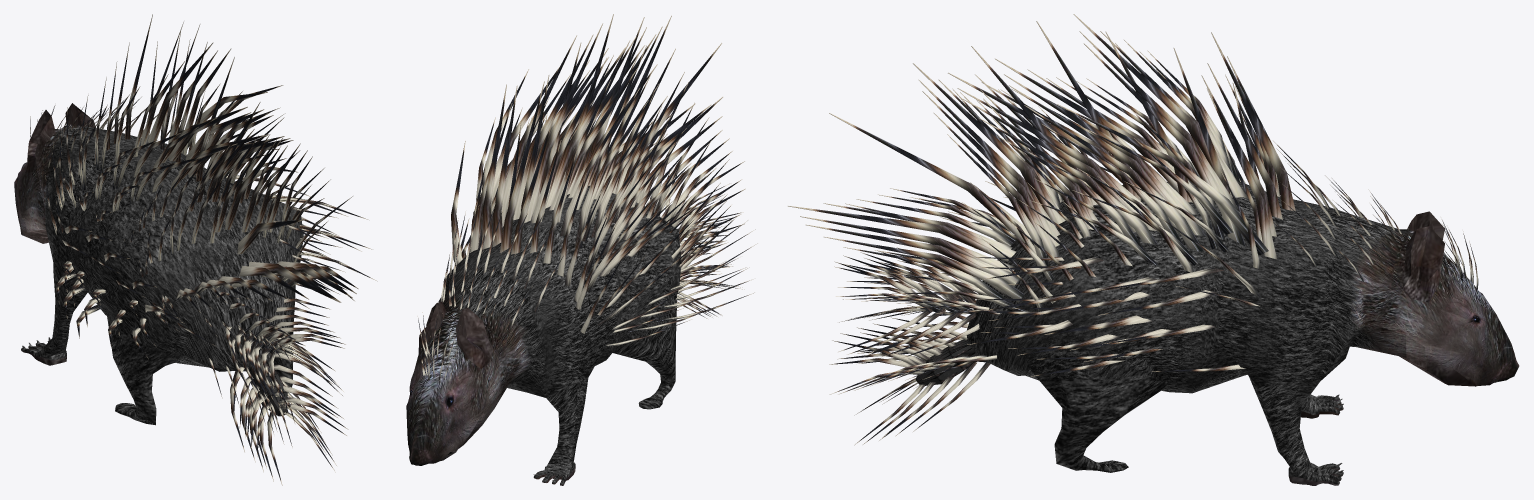
Rendered from porcupaine4.fbx.
The picture shows the model from 3 angles, left to right: view 1: azimuth 30°, elevation 25°; view 2: azimuth 150°, elevation 25°; view 3: azimuth 270°, elevation 25°; orthographic projection. The views are drawn at different scales.
Parts seen in each view (by area): view 1: porcupine, pCube286, pCube145, pCube9, pCube21, pCube143, pCube111, pCube83, pCube258, pCube305, pCube218, pCube124 (+5 smaller); view 2: porcupine, pCube286, pCube143, pCube258, pCube83, pCube112, pCube164, pCube8, pCube305, pCube311, pCube235, pCube161 (+26 smaller); view 3: porcupine, pCube311, pCube145, pCube286, pCube258, pCube6, pCube21, pCube108, pCube9, pCube242, pCube124, pCube83 (+21 smaller).
Part boxes in pixels (<box>): porcupine: <box>14,103,303,425</box>; pCube286: <box>147,42,213,145</box>; pCube145: <box>249,261,339,302</box>; pCube9: <box>225,138,282,229</box>; pCube21: <box>237,219,304,254</box>; pCube143: <box>168,106,247,161</box>; pCube111: <box>239,265,308,299</box>; pCube83: <box>125,14,152,139</box>; pCube258: <box>181,48,231,155</box>; pCube305: <box>168,50,217,143</box>; pCube218: <box>242,145,287,232</box>; pCube124: <box>276,261,352,297</box>; porcupine: <box>406,186,681,485</box>; pCube286: <box>524,23,602,222</box>; pCube143: <box>545,37,636,208</box>; pCube258: <box>491,35,576,239</box>; pCube83: <box>499,81,544,252</box>; pCube112: <box>482,84,506,249</box>; pCube164: <box>530,58,606,223</box>; pCube8: <box>492,85,517,247</box>; pCube305: <box>513,34,593,220</box>; pCube311: <box>478,67,559,248</box>; pCube235: <box>560,97,630,236</box>; pCube161: <box>549,68,637,210</box>; porcupine: <box>915,181,1519,485</box>; pCube311: <box>1057,104,1268,254</box>; pCube145: <box>788,206,1016,261</box>; pCube286: <box>1073,14,1248,199</box>; pCube258: <box>1083,43,1245,246</box>; pCube6: <box>1024,105,1203,251</box>; pCube21: <box>829,113,1031,242</box>; pCube108: <box>1009,85,1205,235</box>; pCube9: <box>913,63,1065,226</box>; pCube242: <box>978,117,1158,244</box>; pCube124: <box>805,224,1018,286</box>; pCube83: <box>1211,32,1295,211</box>.
Size of the model in its own units: 52.88 by 70.72 by 109.
